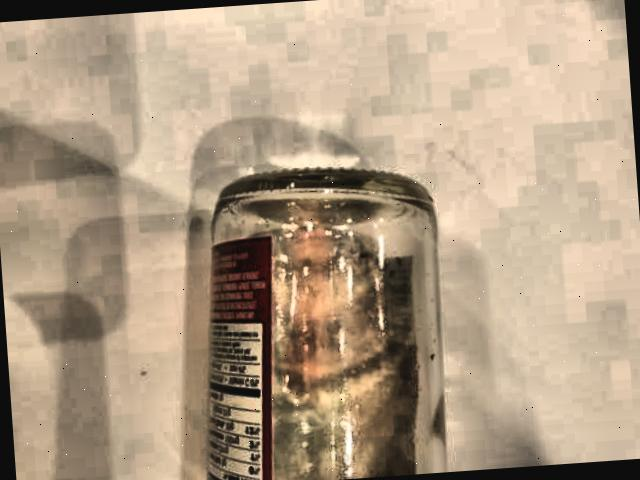Bottles: (161, 130, 479, 480)
